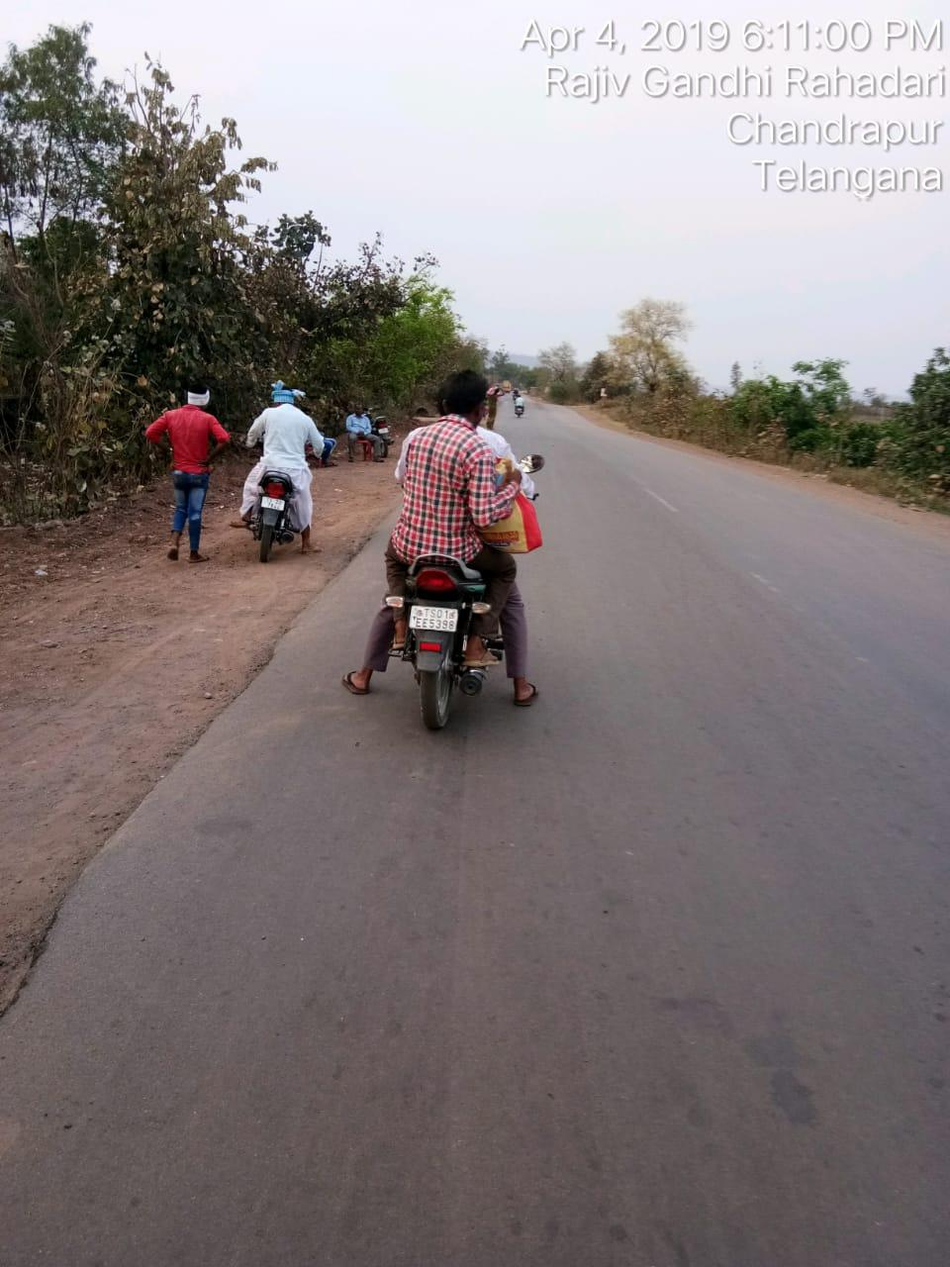plate: (405, 598, 463, 634)
